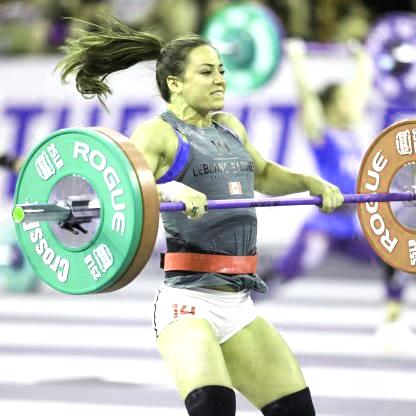barbell: (13, 128, 138, 295)
